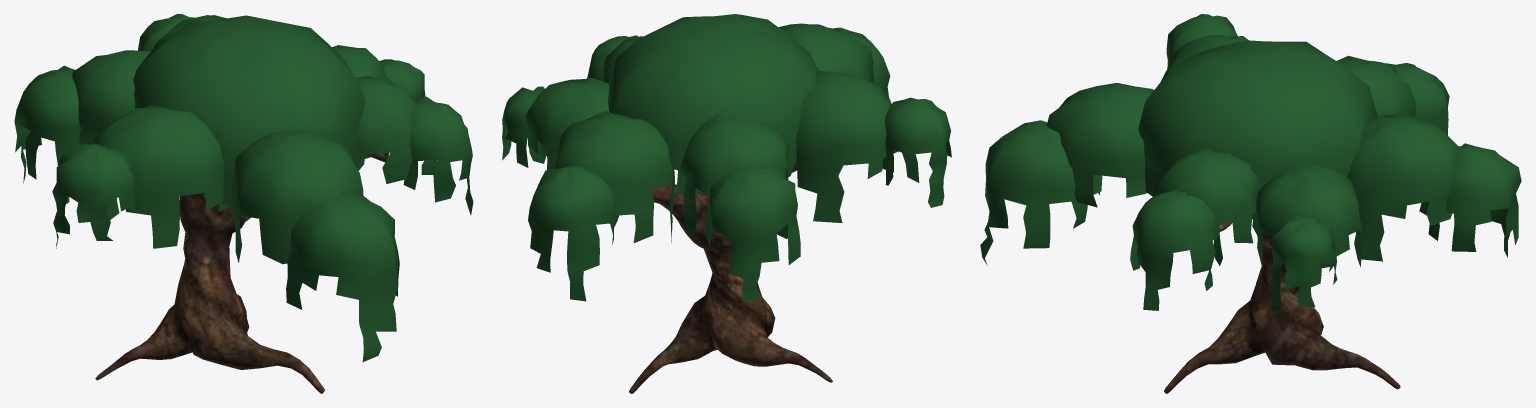
Rendered from tree.fbx.
The picture shows the model from 3 angles, left to right: view 1: azimuth 30°, elevation 25°; view 2: azimuth 150°, elevation 25°; view 3: azimuth 270°, elevation 25°; orthographic projection. The views are drawn at different scales.
Parts seen in each view (by area): view 1: TreeLeaves, Tree; view 2: TreeLeaves, Tree; view 3: TreeLeaves, Tree.
Boxes of the visible parts, bbox=[...] form: TreeLeaves: bbox=[14, 14, 473, 361]; Tree: bbox=[95, 153, 388, 393]; TreeLeaves: bbox=[502, 14, 951, 301]; Tree: bbox=[629, 157, 832, 393]; TreeLeaves: bbox=[980, 14, 1521, 311]; Tree: bbox=[1164, 220, 1400, 393].
Size of the model in its own units: 907 by 694 by 1046.
